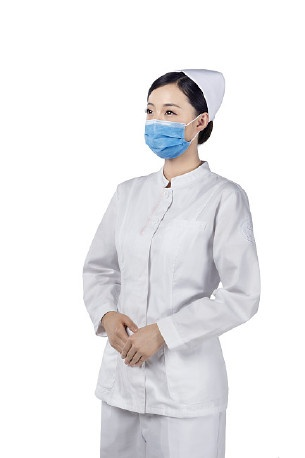Mask: (138, 93, 201, 157)
